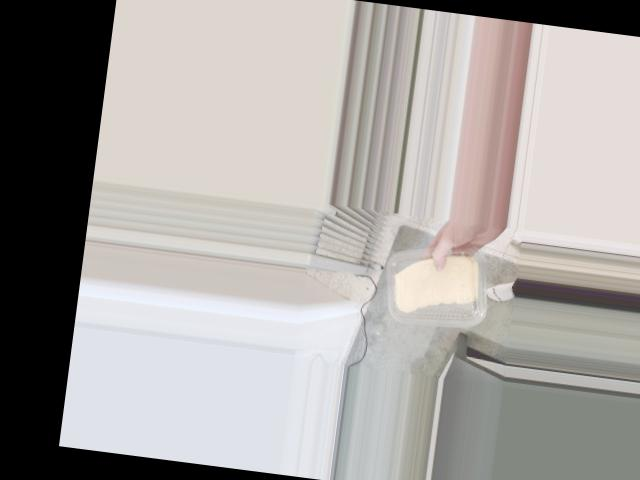cheese: (382, 240, 492, 326)
